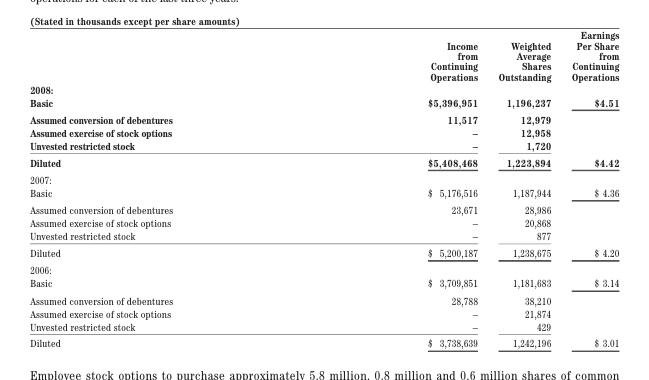table: (29, 28, 618, 348)
table column: (29, 28, 299, 348), (299, 28, 487, 348), (487, 28, 560, 348), (560, 28, 618, 348)
table column header: (29, 28, 618, 82)
table projected row header: (29, 170, 618, 185), (29, 261, 618, 276), (29, 82, 618, 95)
table row: (29, 28, 618, 82), (29, 243, 618, 261), (29, 153, 618, 170), (29, 185, 618, 201), (29, 95, 618, 110), (29, 110, 618, 125), (29, 138, 618, 153), (29, 170, 618, 185), (29, 201, 618, 216), (29, 261, 618, 276), (29, 276, 618, 291), (29, 291, 618, 306), (29, 319, 618, 334), (29, 229, 618, 243), (29, 334, 618, 348), (29, 82, 618, 95), (29, 125, 618, 138), (29, 216, 618, 229), (29, 306, 618, 319)
